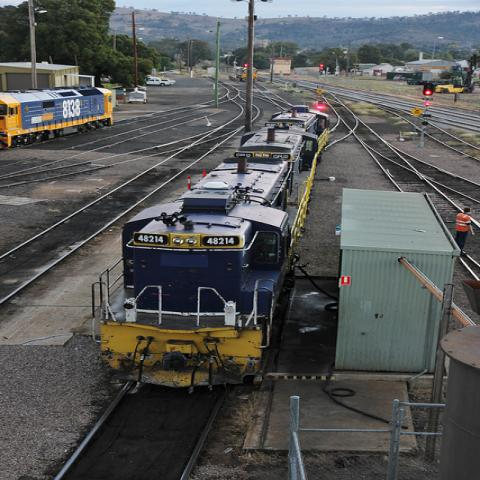car: (146, 78, 172, 85), (161, 78, 176, 86), (159, 70, 181, 75)
